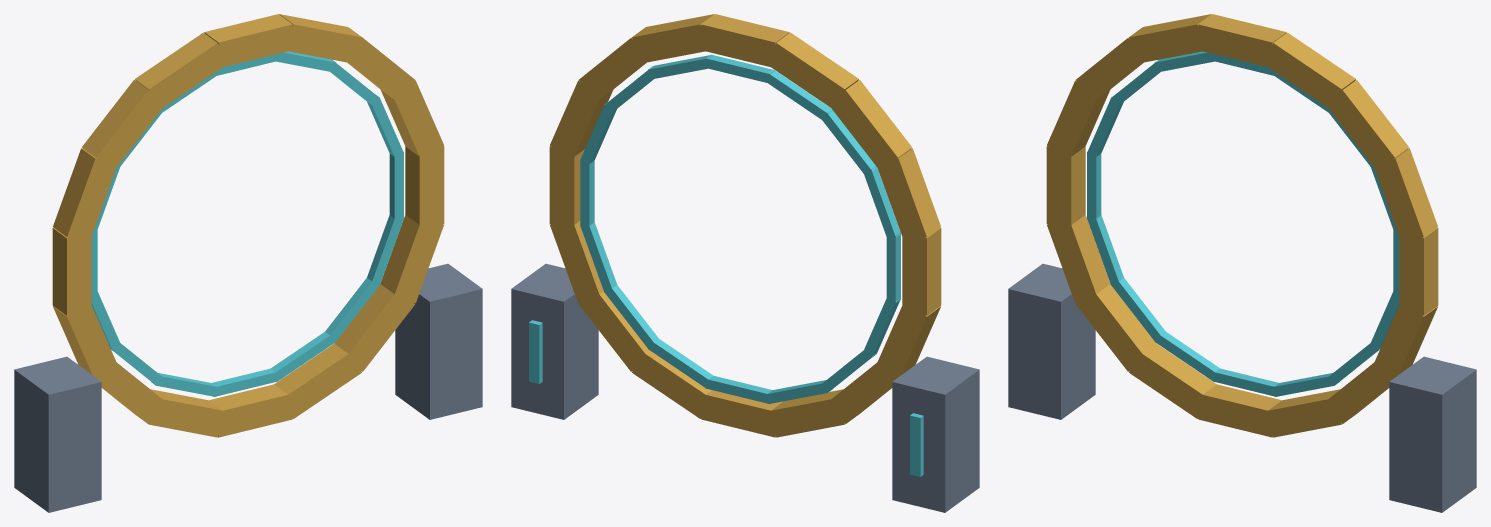
Rendered from rune_portal.glb.
3 views of the same model, side by side, from view 1: azimuth 30°, elevation 25°; view 2: azimuth 150°, elevation 25°; view 3: azimuth 330°, elevation 25° (orthographic).
Parts seen in each view (by area): view 1: rune_portal; view 2: rune_portal; view 3: rune_portal.
Part boxes in pixels (box(x1,y1,x2,y2)): rune_portal: box(14, 14, 482, 512); rune_portal: box(511, 14, 979, 512); rune_portal: box(1008, 14, 1476, 512).
Bounding box in the file's own units: 6.15 × 5.68 × 0.935.
